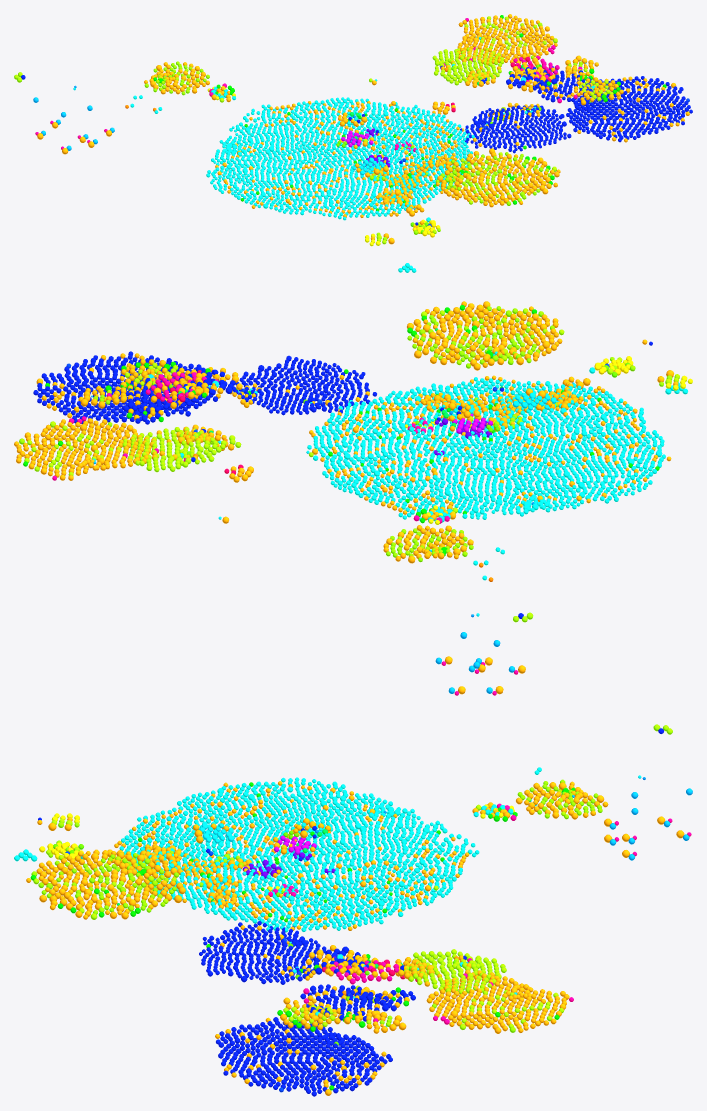
The model's file is task-eeb3fb1fa-layout.gltf.
3 views of the same model, one above another, from view 1: azimuth 30°, elevation 25°; view 2: azimuth 150°, elevation 25°; view 3: azimuth 270°, elevation 25° (orthographic). The views are drawn at different scales.
Visible parts, largest first — view 1: normal_no_ext_files, diff_changed_files, normal_md_files, normal_c_files, normal_h_files, diff_added_files, normal_pl_files; view 2: normal_no_ext_files, diff_changed_files, normal_md_files, normal_c_files, normal_h_files, diff_added_files, normal_pl_files; view 3: normal_no_ext_files, diff_changed_files, normal_md_files, normal_c_files, normal_h_files, diff_added_files, normal_pl_files.
Boxes of the visible parts, box(x1,y1,x2,y2) form: normal_no_ext_files: box(130, 77, 533, 272); diff_changed_files: box(37, 14, 689, 244); normal_md_files: box(21, 64, 692, 225); normal_c_files: box(175, 16, 613, 244); normal_h_files: box(144, 22, 582, 240); diff_added_files: box(153, 15, 666, 211); normal_pl_files: box(209, 18, 582, 152); normal_no_ext_files: box(212, 367, 687, 580); diff_changed_files: box(14, 301, 678, 694); normal_md_files: box(33, 341, 652, 618); normal_c_files: box(24, 308, 679, 546); normal_h_files: box(19, 306, 672, 562); diff_added_files: box(23, 305, 659, 556); normal_pl_files: box(52, 372, 449, 523); normal_no_ext_files: box(14, 767, 562, 973); diff_changed_files: box(26, 781, 684, 1095); normal_md_files: box(38, 728, 663, 1096); normal_c_files: box(33, 798, 565, 1029); normal_h_files: box(31, 779, 602, 1032); diff_added_files: box(30, 782, 575, 1090); normal_pl_files: box(268, 803, 573, 1024).
Bounding box in the file's own units: 315 × 47.37 × 280.
